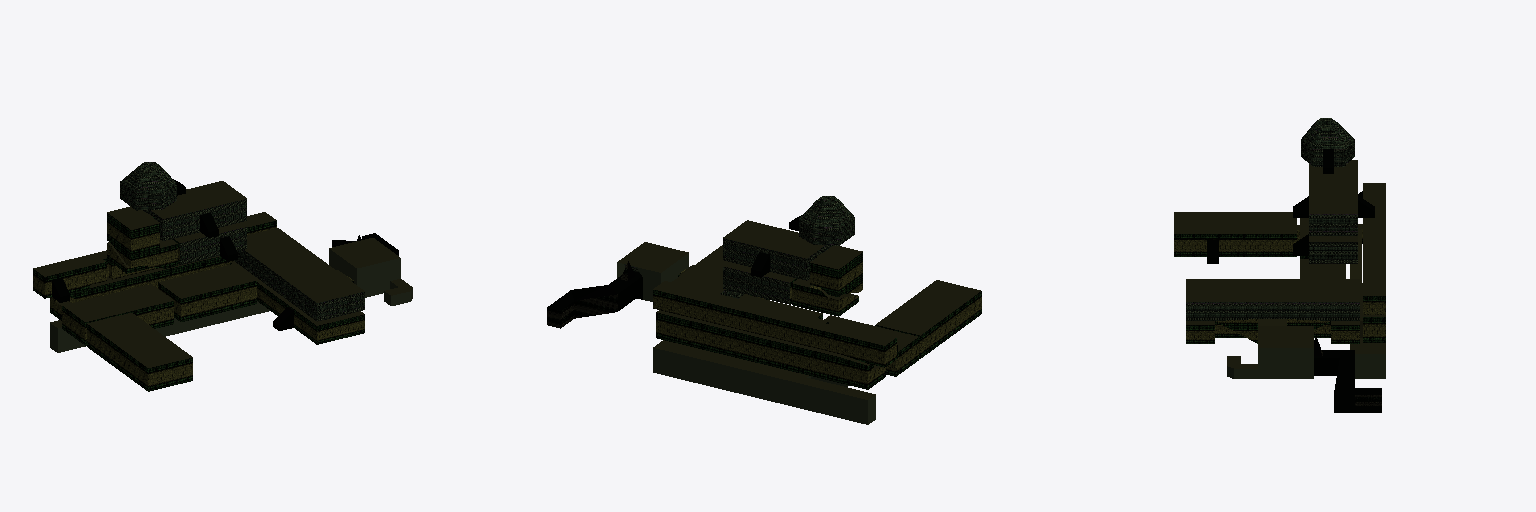
3 views of the same model, side by side, from view 1: azimuth 30°, elevation 25°; view 2: azimuth 150°, elevation 25°; view 3: azimuth 270°, elevation 25° (orthographic).
Visible parts, largest first — view 1: temple1inside; view 2: temple1inside; view 3: temple1inside.
Part boxes in pixels (bbox=[...]): temple1inside: bbox=[33, 162, 412, 391]; temple1inside: bbox=[547, 196, 981, 424]; temple1inside: bbox=[1174, 118, 1385, 412].
Size of the model in its own units: 7.7 by 4.02 by 4.16.
12 materials, 8 textured.